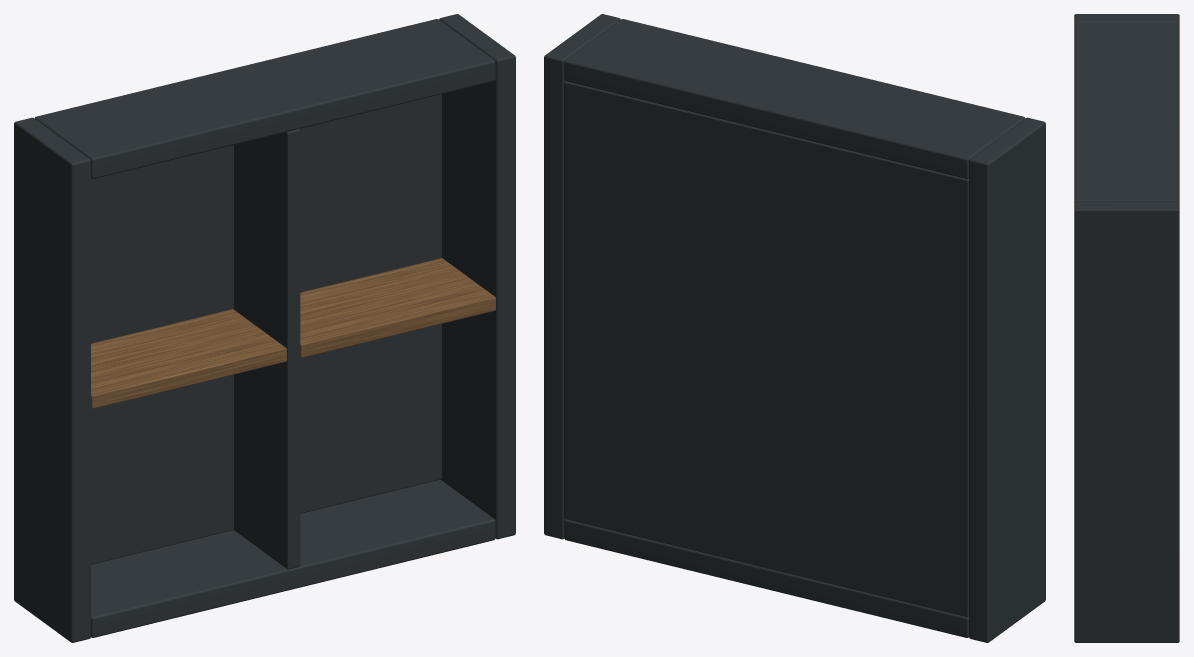
Rendered from industrial_loft_display_niche.glb.
3 renders of one model, left to right at view 1: azimuth 30°, elevation 25°; view 2: azimuth 150°, elevation 25°; view 3: azimuth 270°, elevation 25°, orthographic. The views are drawn at different scales.
Visible parts, largest first — view 1: display_niche.001; view 2: display_niche.001; view 3: display_niche.001.
Part boxes in pixels (bbox=[...]): display_niche.001: bbox=[14, 14, 515, 642]; display_niche.001: bbox=[544, 14, 1045, 642]; display_niche.001: bbox=[1074, 14, 1179, 642].
Size of the model in its own units: 1.32 by 1.36 by 0.3.
3 materials, 3 textured.
